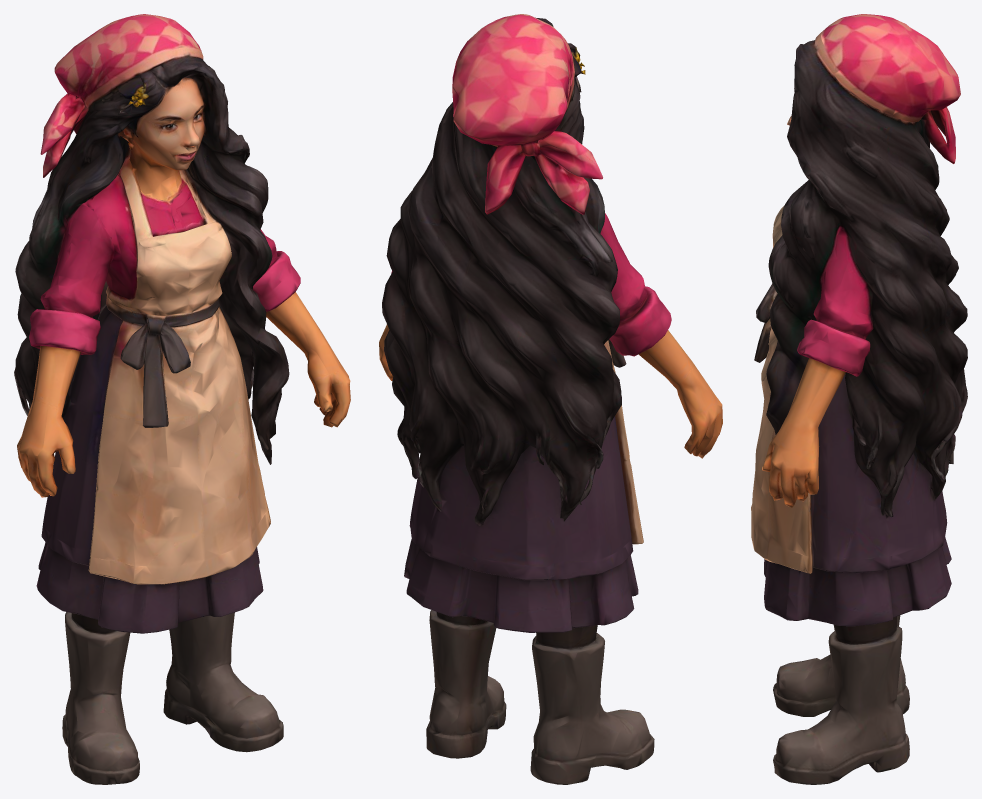
File: meena.glb
3 renders of one model, left to right at view 1: azimuth 30°, elevation 25°; view 2: azimuth 150°, elevation 25°; view 3: azimuth 270°, elevation 25°, orthographic. The views are drawn at different scales.
Bounding box in the file's own units: 0.4612 × 0.9795 × 0.2677.
1 material, 1 textured.
